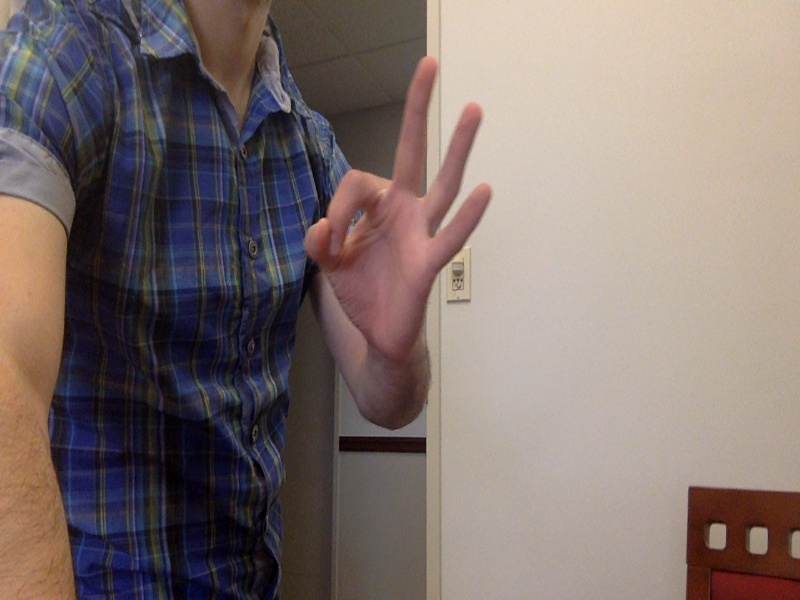3-hand: (307, 61, 494, 367)
